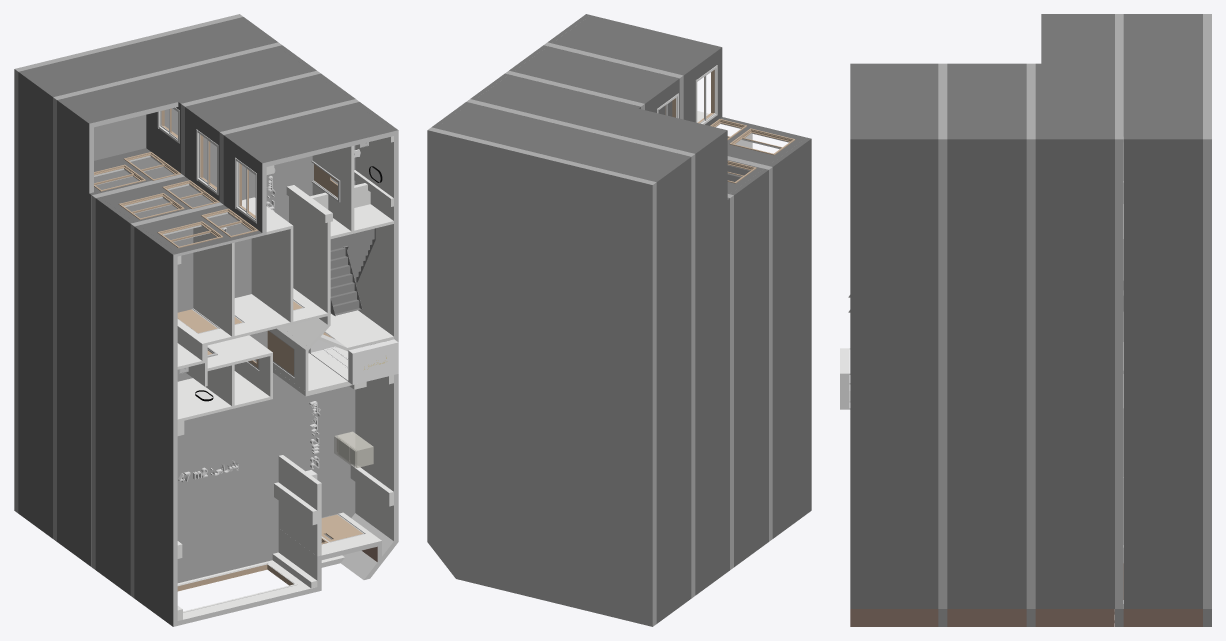
File: gltf_L.glb
3 renders of one model, left to right at view 1: azimuth 30°, elevation 25°; view 2: azimuth 150°, elevation 25°; view 3: azimuth 270°, elevation 25°, orthographic. The views are drawn at different scales.
Visible parts, largest first — view 1: سقید و سیمان(سیاه) 2.004, Generic - 12".004, L5.001, سقید و سیمان(سیاه) 2.006, سقید و سیمان(سیاه).003, سقید و سیمان(سیاه) 2.005, Generic - 12".006, سقید و سیمان(سیاه).004, Generic - 12".007, سفید و سیاه 12 سانت.001, Generic - 8" 4.022, سقید و سیمان(سیاه) 2.007 (+35 smaller); view 2: Generic - 12".005, سقید و سیمان(سیاه) 2.004, سقید و سیمان(سیاه) 2.006, L5.001, سقید و سیمان(سیاه) 2.005, Generic - 12".006, سقید و سیمان(سیاه) 2.007, Generic - 12".004, سقید و سیمان(سیاه).005, Generic - 12".007, سقید و سیمان(سیاه).004, سفید و سیاه 12 سانت.001 (+1 smaller); view 3: سقید و سیمان(سیاه).003, L5.001, سقید و سیمان(سیاه) 2.005, Generic - 12".004, Generic - 12".007, Generic - 12".005, Generic - 12".006, سفید و آجر.011, سقید و سیمان(سیاه) 2.007, Lift with Hydraulic Ram.001.
Part boxes in pixels (x1=…): سقید و سیمان(سیاه) 2.004: x1=57, y1=170, x2=177, y2=626; Generic - 12".004: x1=130, y1=99, x2=359, y2=597; L5.001: x1=146, y1=46, x2=393, y2=211; سقید و سیمان(سیاه) 2.006: x1=18, y1=77, x2=52, y2=533; سقید و سیمان(سیاه).003: x1=239, y1=17, x2=398, y2=547; سقید و سیمان(سیاه) 2.005: x1=18, y1=18, x2=273, y2=101; Generic - 12".006: x1=53, y1=42, x2=281, y2=541; سقید و سیمان(سیاه).004: x1=146, y1=107, x2=266, y2=232; Generic - 12".007: x1=92, y1=70, x2=320, y2=569; سفید و سیاه 12 سانت.001: x1=94, y1=148, x2=266, y2=256; Generic - 8" 4.022: x1=289, y1=197, x2=330, y2=328; سقید و سیمان(سیاه) 2.007: x1=57, y1=78, x2=178, y2=128; Generic - 12".005: x1=427, y1=127, x2=656, y2=626; سقید و سیمان(سیاه) 2.004: x1=695, y1=137, x2=811, y2=595; سقید و سیمان(سیاه) 2.006: x1=656, y1=162, x2=691, y2=618; L5.001: x1=475, y1=15, x2=722, y2=131; سقید و سیمان(سیاه) 2.005: x1=436, y1=103, x2=691, y2=186; Generic - 12".006: x1=466, y1=99, x2=695, y2=598; سقید و سیمان(سیاه) 2.007: x1=606, y1=108, x2=727, y2=158; Generic - 12".004: x1=544, y1=42, x2=772, y2=541; سقید و سیمان(سیاه).005: x1=695, y1=135, x2=727, y2=223; Generic - 12".007: x1=505, y1=70, x2=733, y2=569; سقید و سیمان(سیاه).004: x1=645, y1=52, x2=722, y2=125; سفید و سیاه 12 سانت.001: x1=720, y1=117, x2=806, y2=193; سقید و سیمان(سیاه).003: x1=850, y1=136, x2=1202, y2=611; L5.001: x1=850, y1=63, x2=1114, y2=136; سقید و سیمان(سیاه) 2.005: x1=1123, y1=14, x2=1202, y2=141; Generic - 12".004: x1=938, y1=63, x2=947, y2=626; Generic - 12".007: x1=1026, y1=63, x2=1035, y2=626; Generic - 12".005: x1=1203, y1=14, x2=1211, y2=626; Generic - 12".006: x1=1115, y1=14, x2=1123, y2=626; سفید و آجر.011: x1=850, y1=604, x2=1202, y2=626; سقید و سیمان(سیاه) 2.007: x1=1041, y1=14, x2=1114, y2=63; Lift with Hydraulic Ram.001: x1=840, y1=348, x2=850, y2=409.
Bounding box in the file's own units: 10.09 × 18.93 × 12.65.
